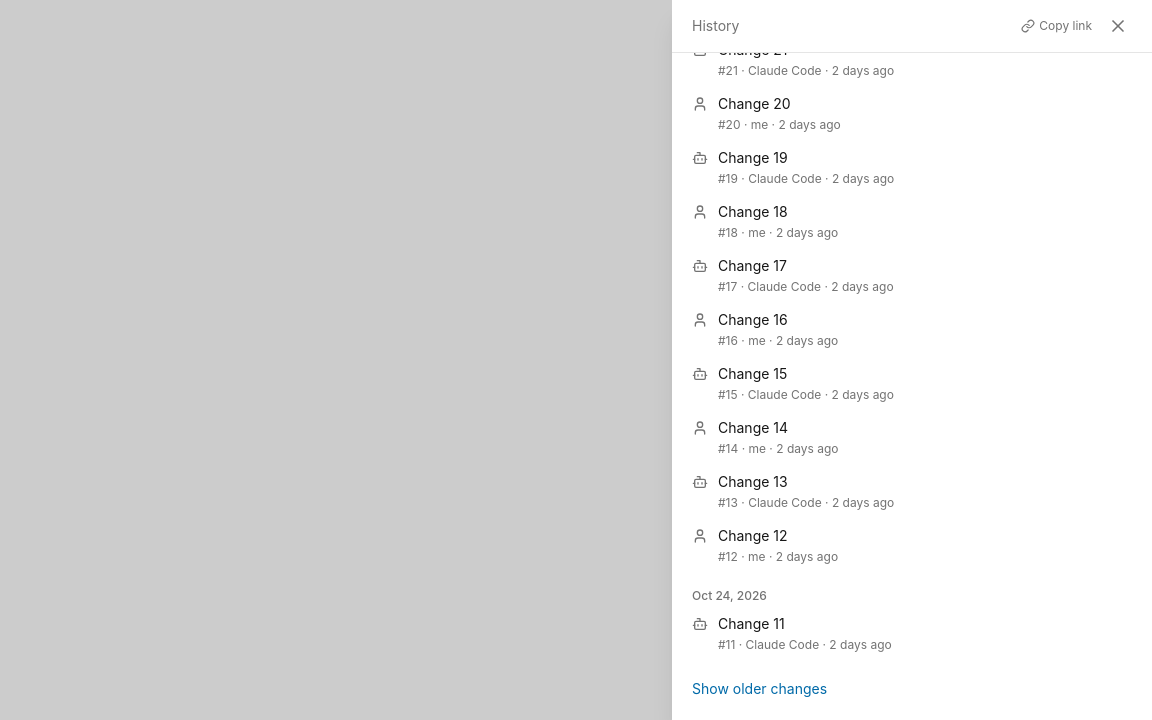
Test: project history › lists every change by day, newest first, and loads older ones
(page scrolled)
Expected: the text "Change 10" is not shown
What coordinates should you click on to do the following:
click the button "Show older changes"
I would click on:
 (760, 689)
Its box is [692,679,827,699].
(page scrolled)
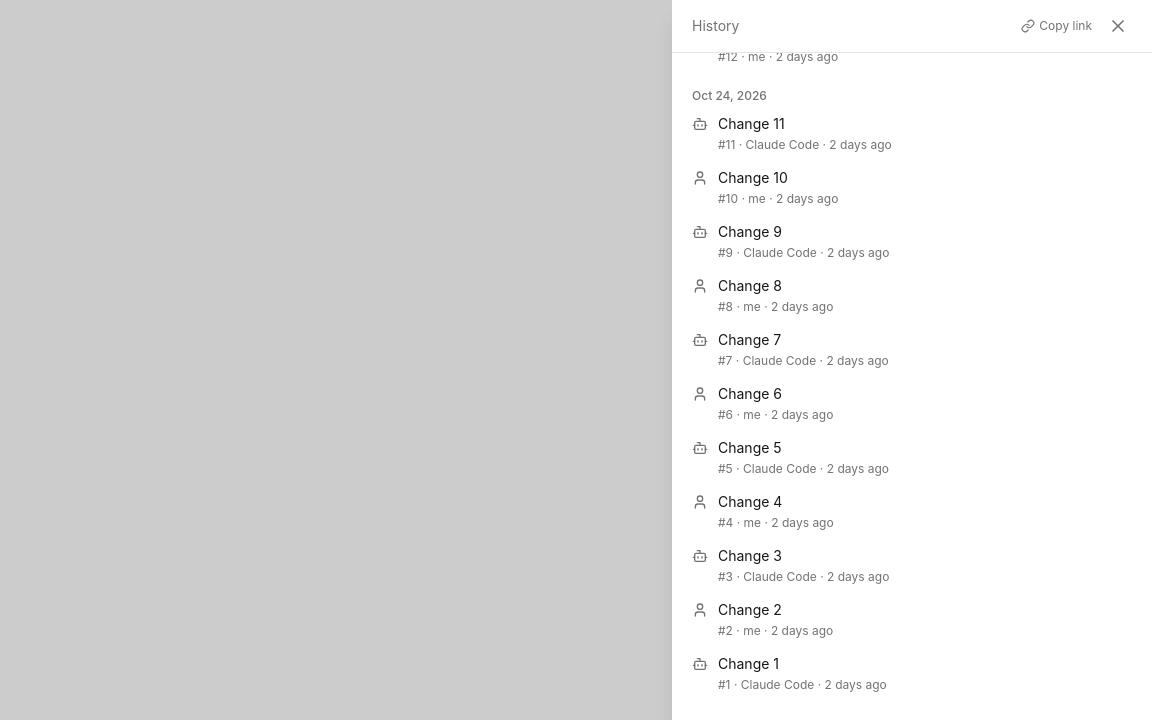
Expected: the text "Change 1" is shown, [718,655,779,672]
Now the button "Show older changes" is gone
